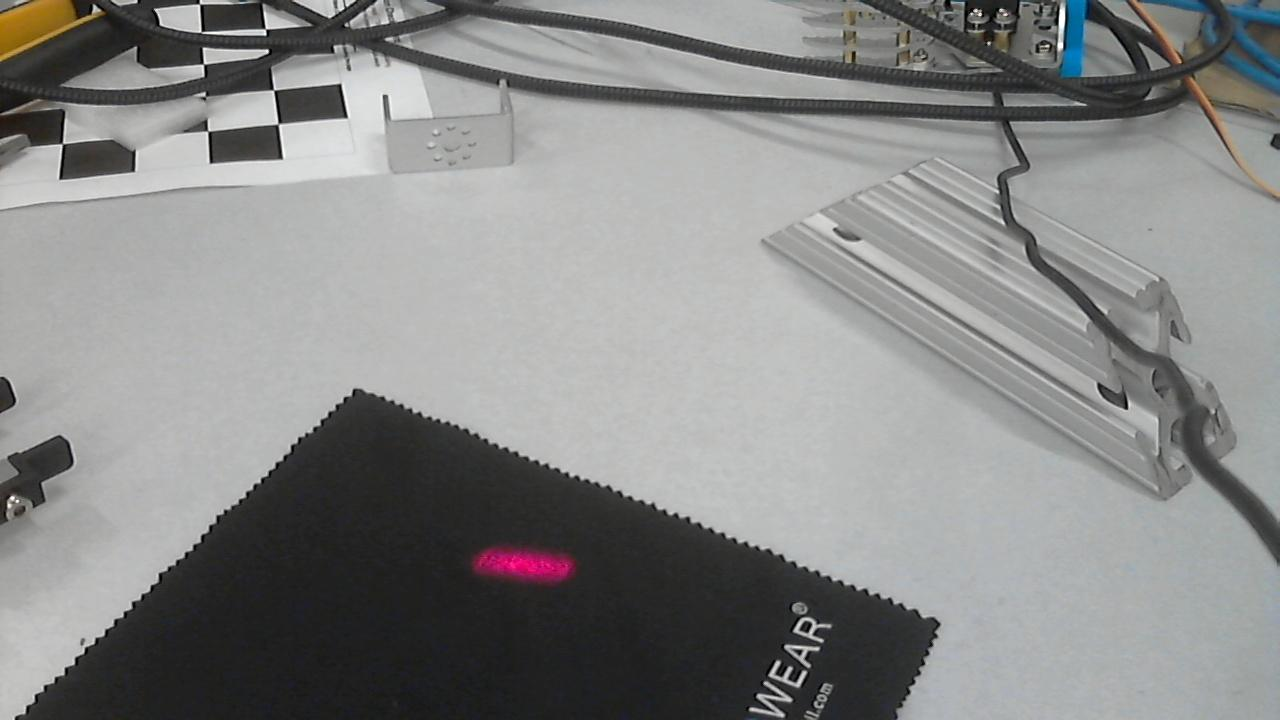Object microfiber cleaning cloth - Material fabric - Color black - Pdfname drQGv: (440, 537, 601, 608)
